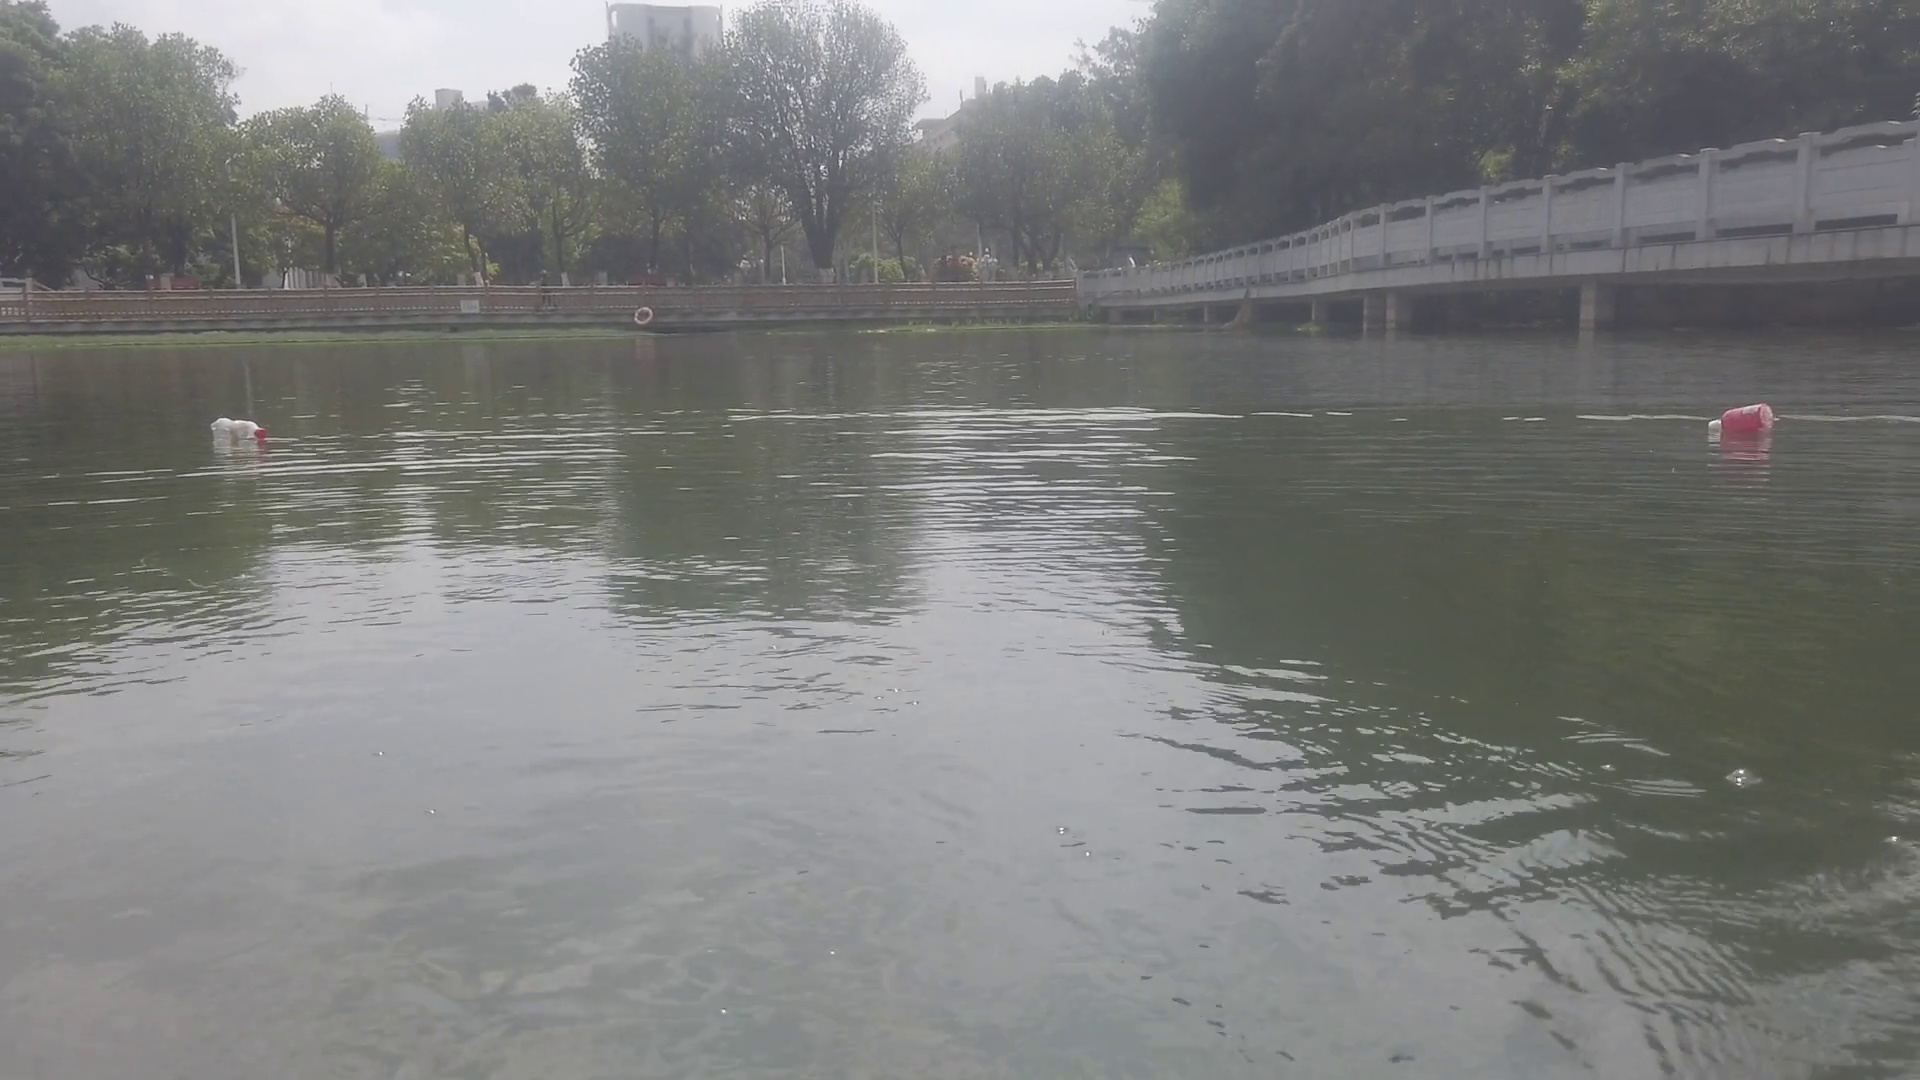bottle: (1701, 397, 1783, 433), (208, 414, 272, 442)
